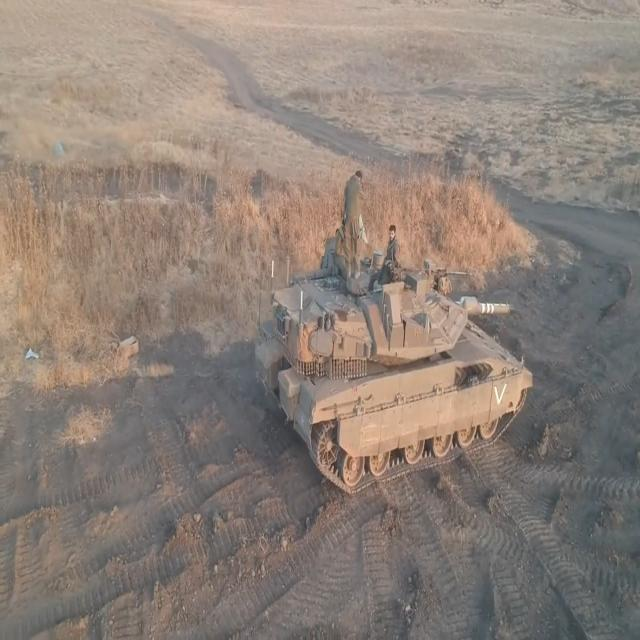tank: (263, 272, 542, 500)
